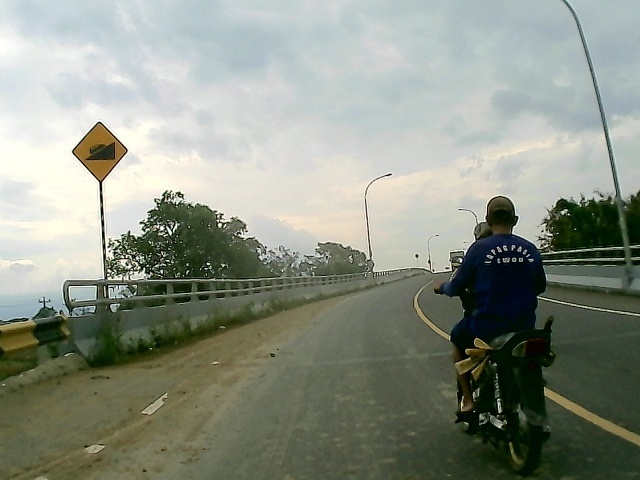Jalanan menanjak: (71, 119, 131, 186)
